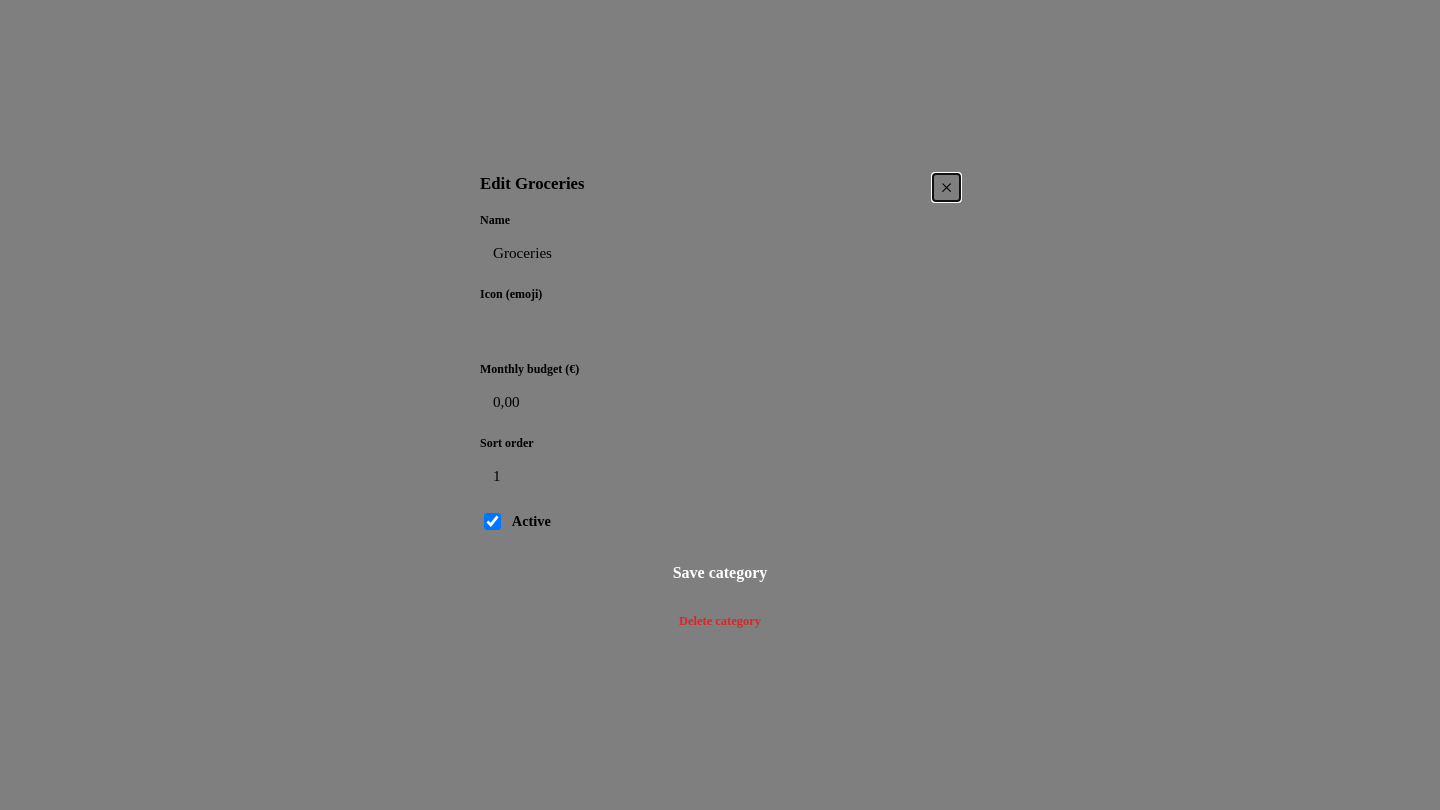
Test: ConfigModal delete control › surfaces a non-409 delete failure and returns to idle
Click the button "Delete category" at (720,621), box [480,608,960,634]
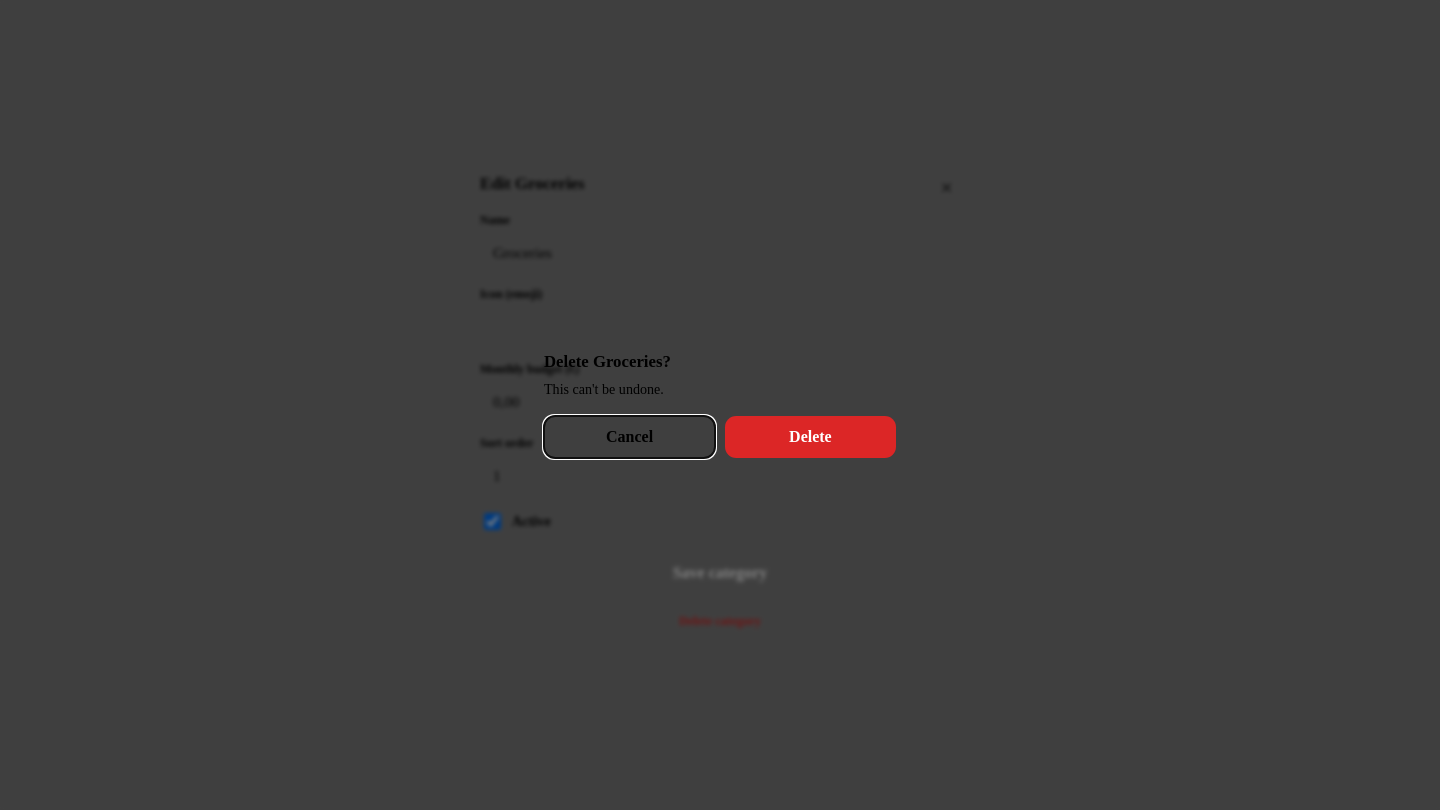
Click the button "Delete" at (810,437), box [725,416,896,458]
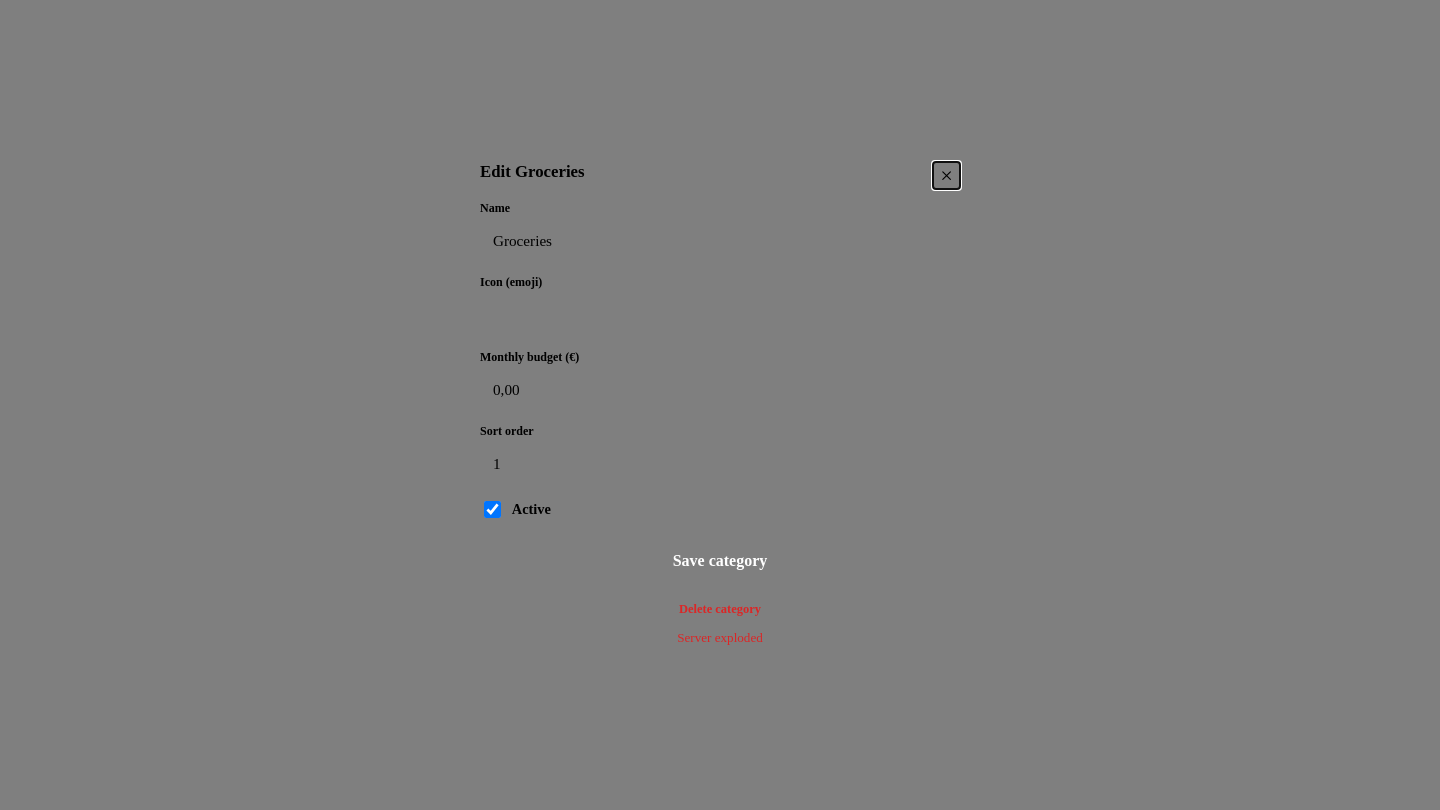
Result: the text "Server exploded" is shown at [677,630,763,645]
Result: the text "This can't be undone." is gone
